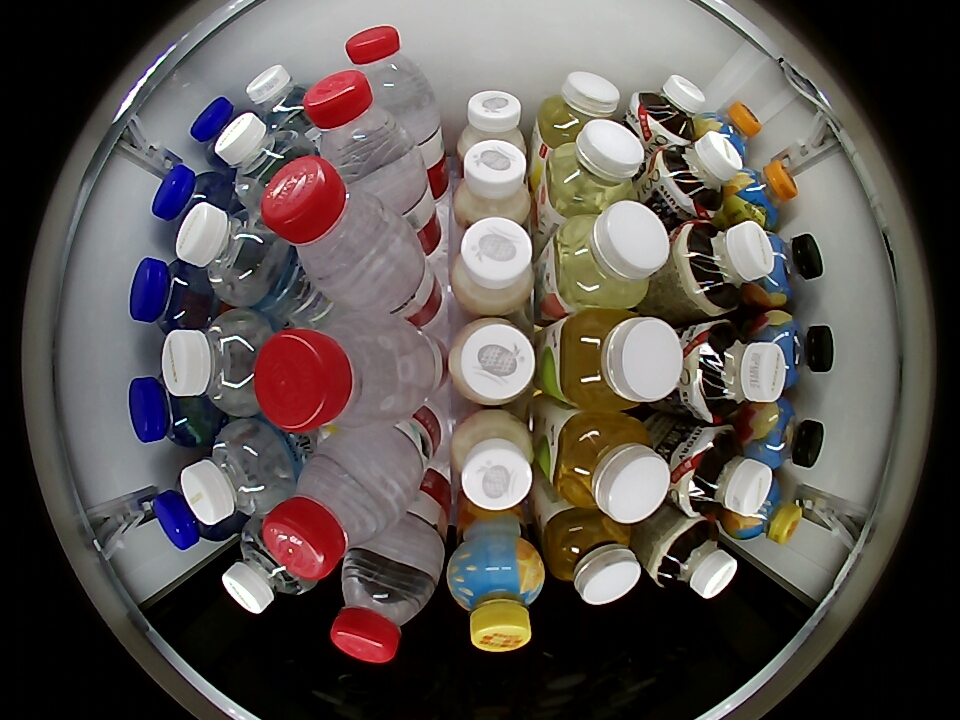chapai: (551, 412, 670, 524), (553, 311, 682, 410), (543, 509, 641, 605)
chapai2: (547, 201, 669, 311), (542, 119, 644, 214), (537, 71, 621, 146)
guolicheng: (447, 537, 545, 652), (729, 475, 803, 545), (727, 160, 798, 228), (699, 100, 763, 163)
guolicheng2: (757, 310, 834, 390), (746, 398, 824, 470), (754, 231, 823, 308)
maidong: (151, 475, 234, 550), (129, 373, 213, 447), (129, 257, 211, 332), (152, 165, 232, 233), (190, 96, 248, 164)
nongfushanquan: (264, 433, 410, 580), (261, 156, 407, 302), (254, 318, 418, 430), (331, 546, 438, 663), (304, 71, 413, 179), (344, 26, 431, 114)
qinningshui: (182, 420, 294, 525), (161, 311, 271, 417), (176, 203, 284, 304), (222, 526, 314, 615), (216, 114, 309, 200), (245, 64, 315, 135)
weiweidounai: (449, 216, 535, 315), (451, 411, 535, 512), (449, 317, 537, 406), (453, 139, 532, 227), (457, 90, 526, 158)
wulongcha: (685, 320, 790, 423), (674, 220, 777, 316), (673, 427, 774, 521), (654, 132, 744, 219), (649, 517, 737, 600), (633, 75, 707, 146)
